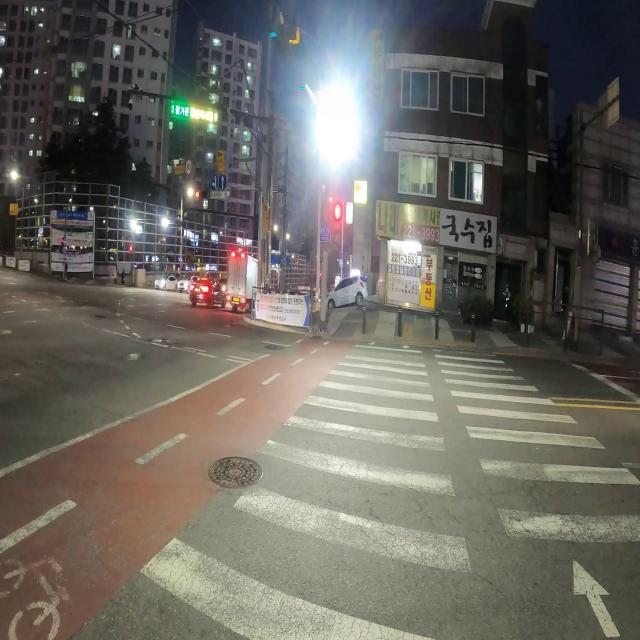crosswalk: (132, 340, 639, 640)
